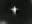person: (11, 7, 20, 16)
